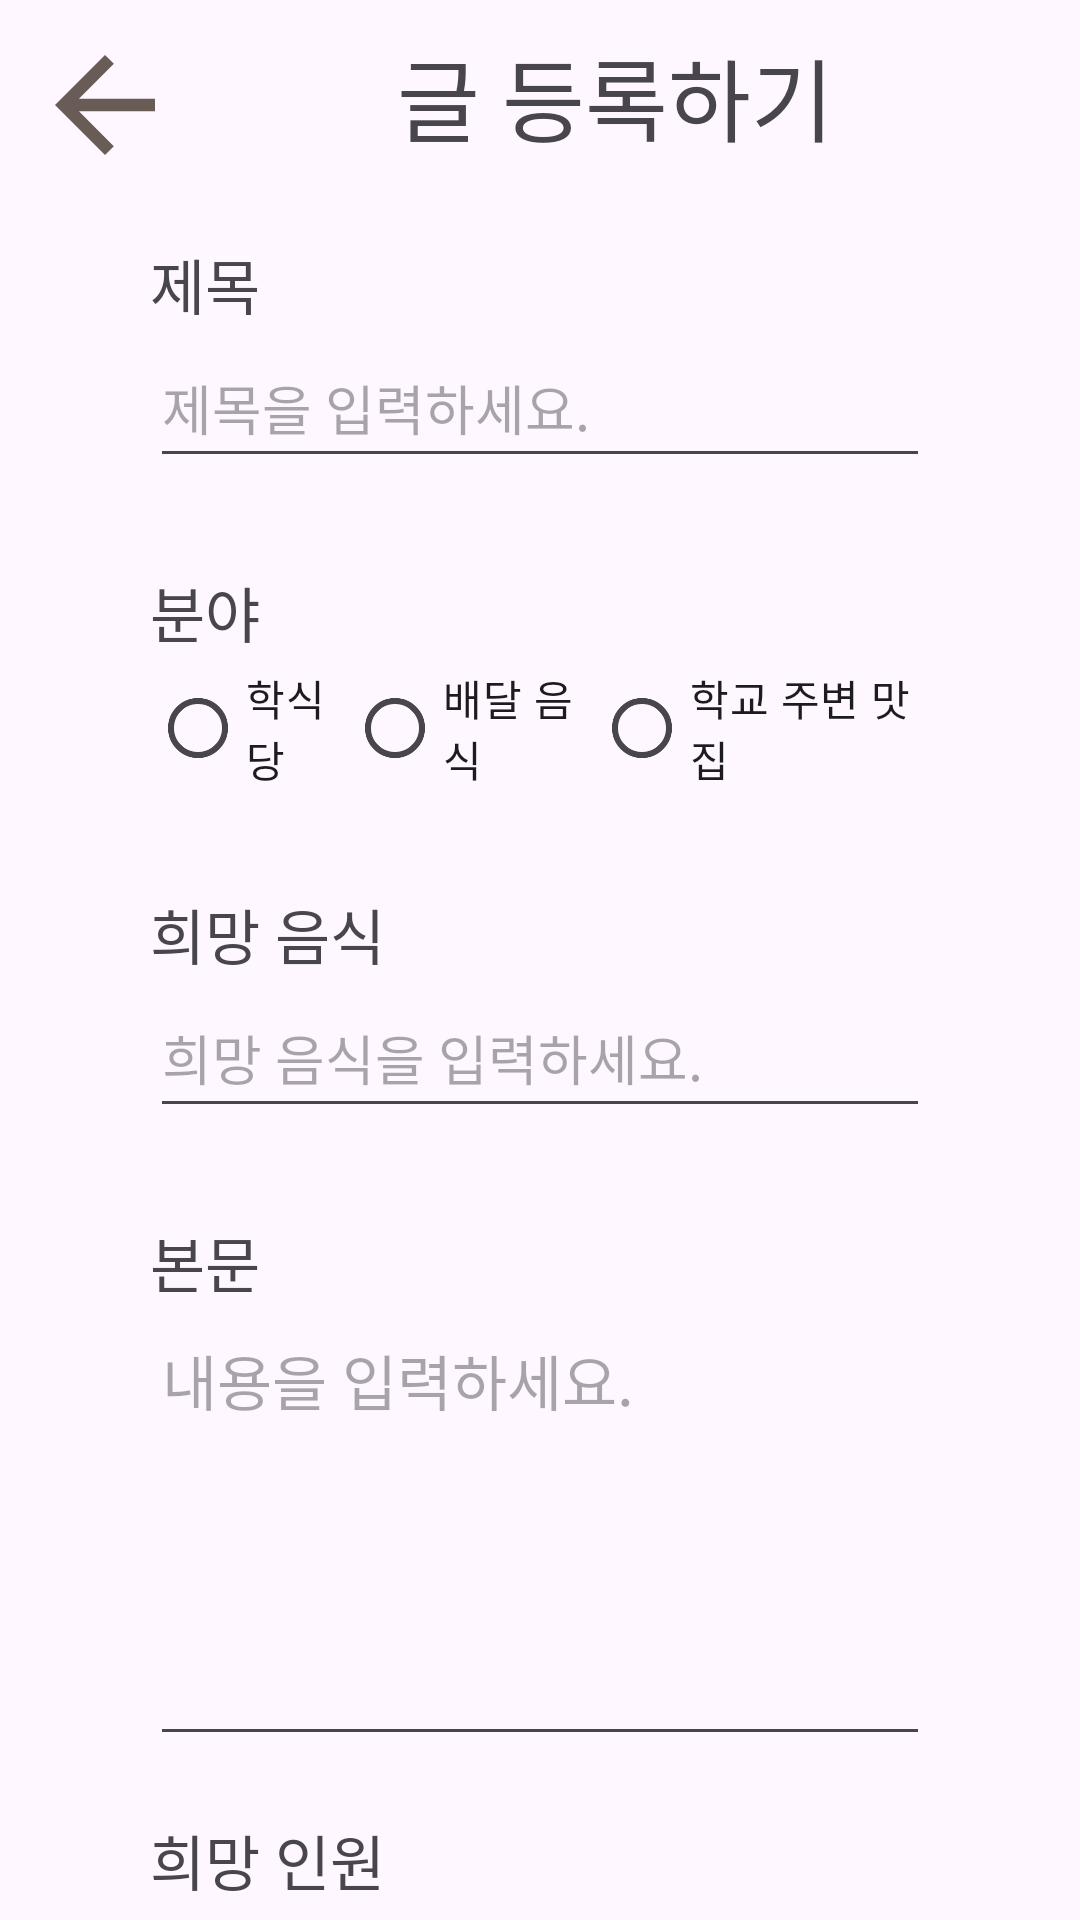

Point at icon controls on the screen. Image size 1080x1920, points as point (x, y).
arrow back: point (105, 105)
